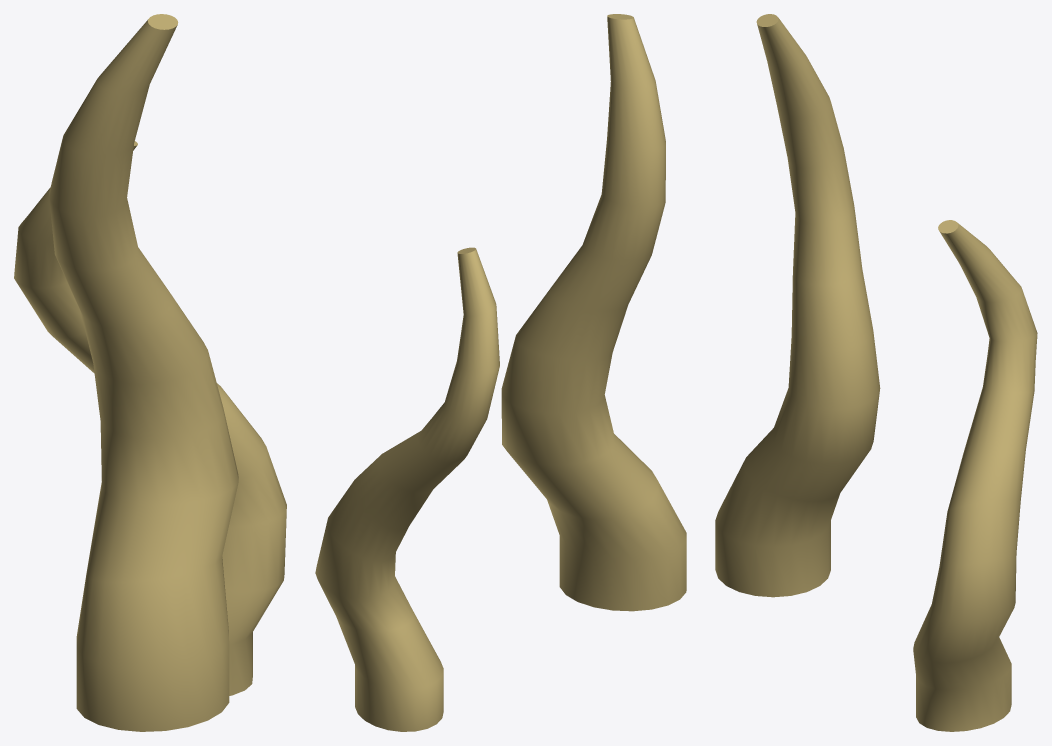
Rendered from mesh_plantstage01_var03.fbx.
The picture shows the model from 3 angles, left to right: view 1: azimuth 30°, elevation 25°; view 2: azimuth 150°, elevation 25°; view 3: azimuth 270°, elevation 25°; orthographic projection. The views are drawn at different scales.
Parts seen in each view (by area): view 1: mesh_plantstage01_var03; view 2: mesh_plantstage01_var03; view 3: mesh_plantstage01_var03.
Part boxes in pixels (x1,y1,x2,y2): mesh_plantstage01_var03: [14, 14, 286, 731]; mesh_plantstage01_var03: [315, 14, 686, 731]; mesh_plantstage01_var03: [715, 14, 1037, 731].
Bounding box in the file's own units: 0.2259 × 0.5284 × 0.2428.
